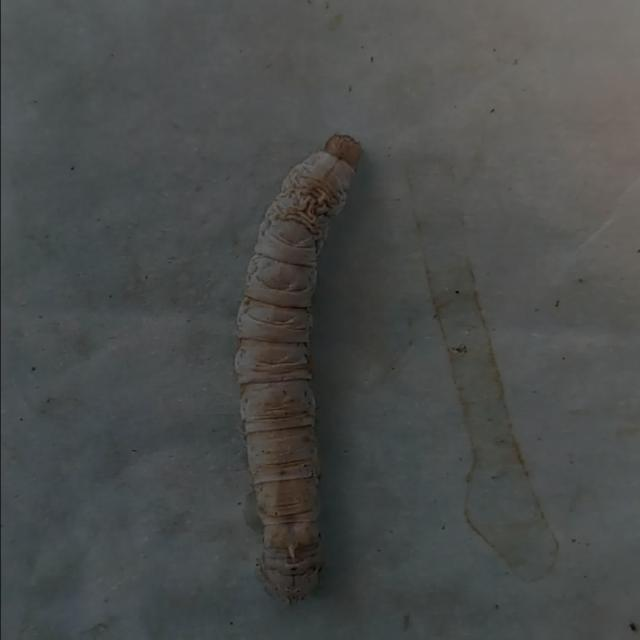Grasserie: (199, 118, 405, 620)
